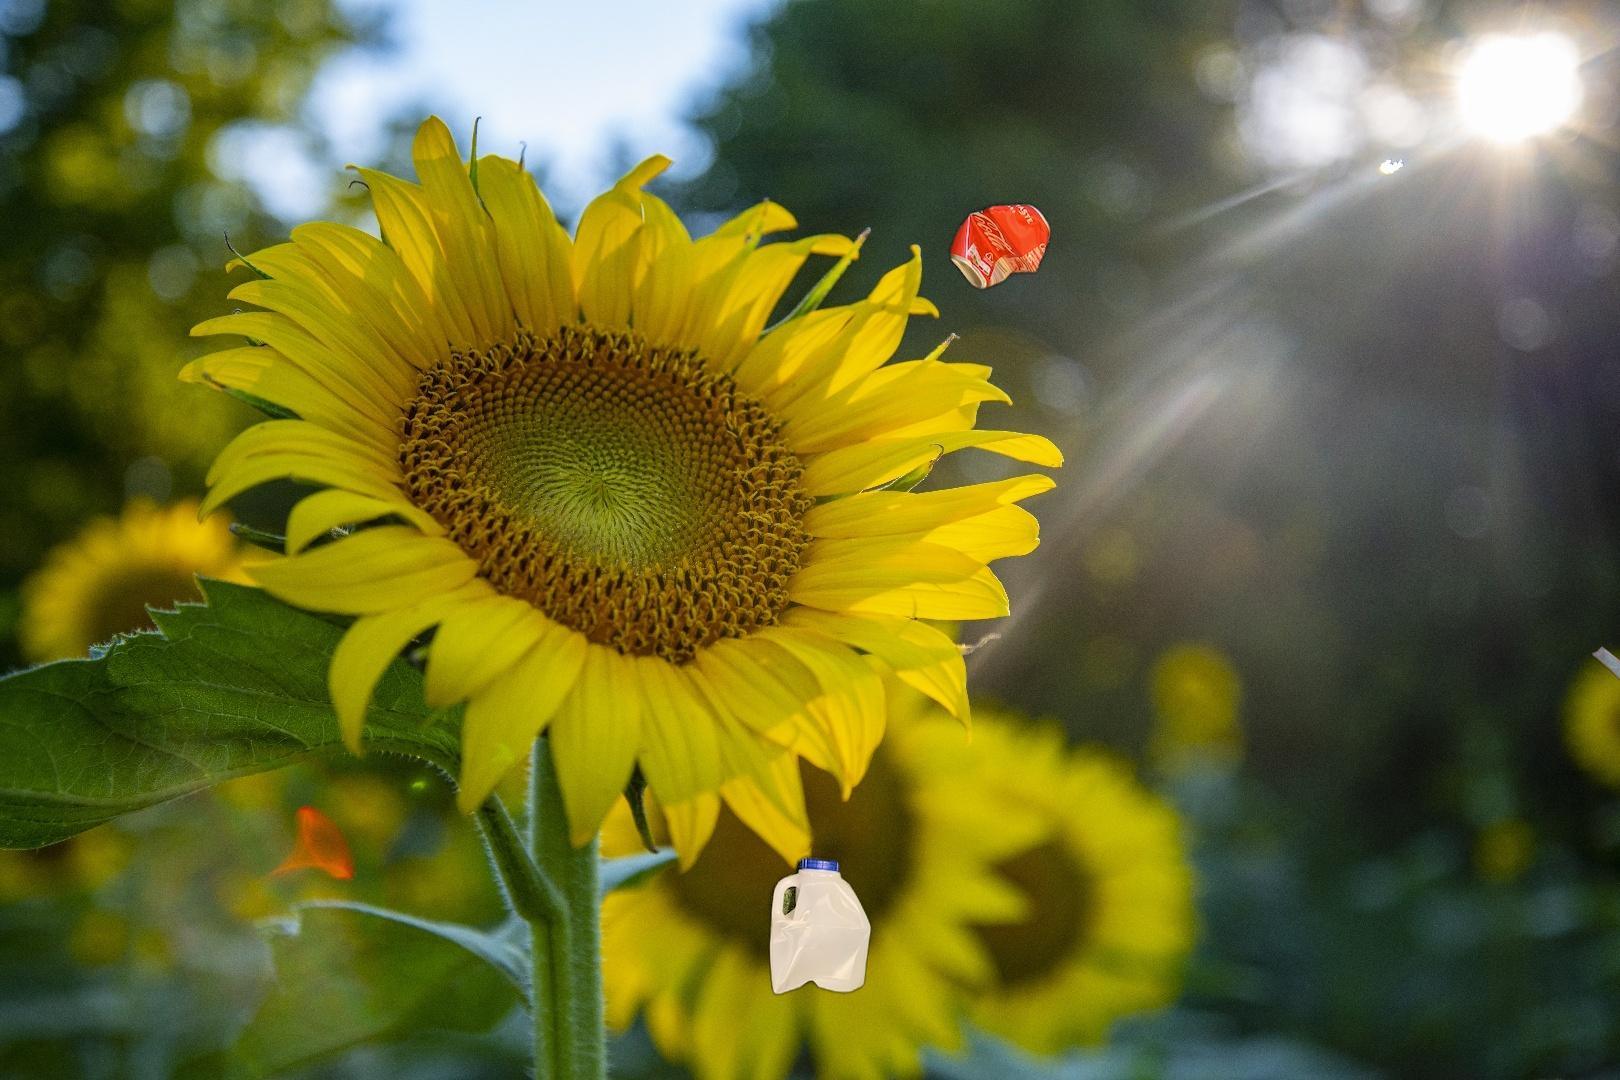metal-cans: (945, 196, 1056, 295)
plastic-bag: (1587, 594, 1620, 730)
plastic-bottles: (765, 851, 876, 1000)
